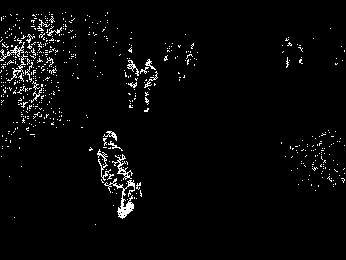person: (94, 126, 146, 225), (140, 57, 164, 115), (122, 58, 141, 111)
